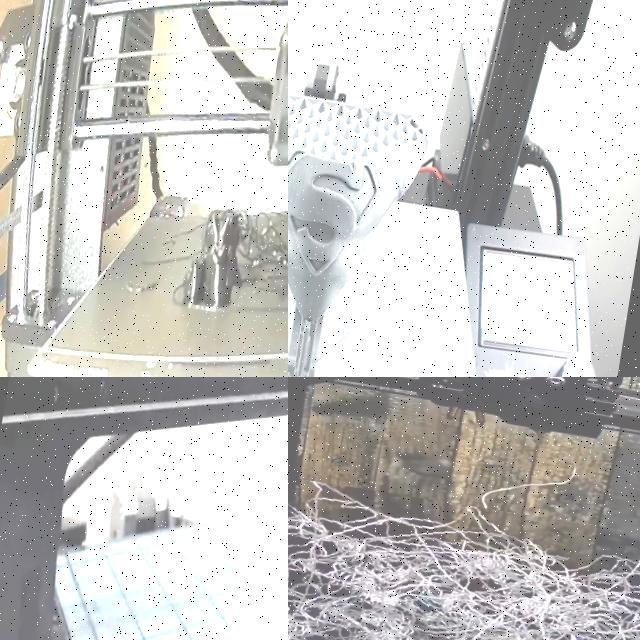spaghetti: (288, 464, 640, 640), (216, 188, 288, 302)
